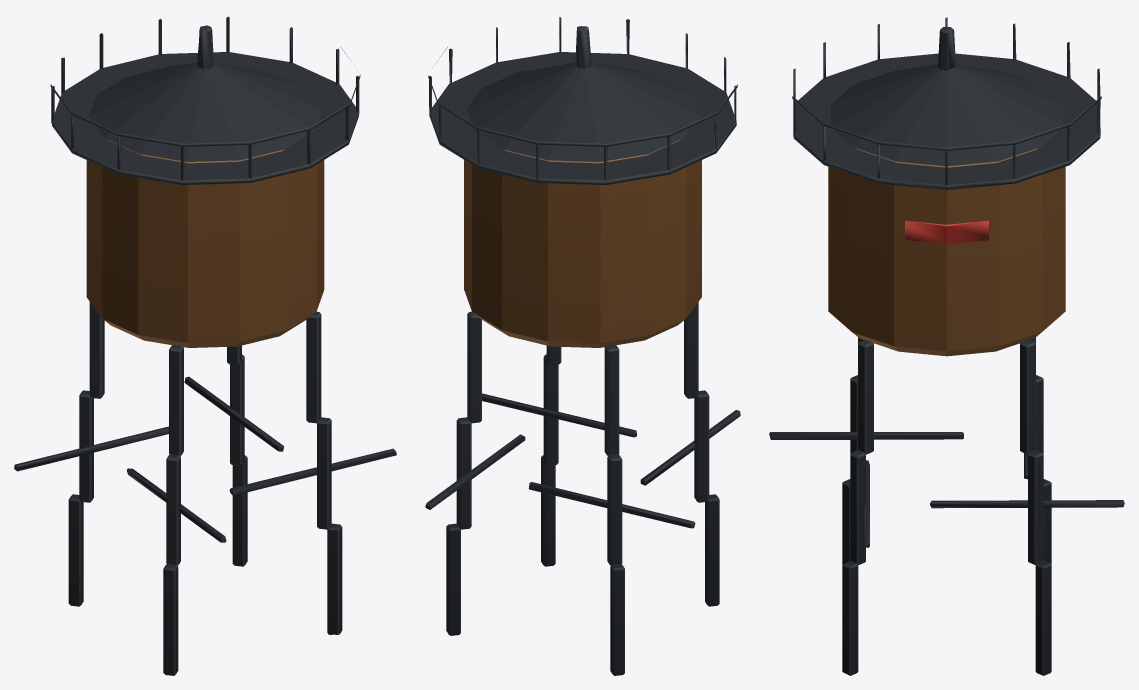
Rendered from water-tower-v1.lod1.glb.
3 renders of one model, left to right at view 1: azimuth 30°, elevation 25°; view 2: azimuth 150°, elevation 25°; view 3: azimuth 270°, elevation 25°, orthographic. The views are drawn at different scales.
Parts seen in each view (by area): view 1: water-tower-v1.lod1; view 2: water-tower-v1.lod1; view 3: water-tower-v1.lod1.
Part boxes in pixels (left/top/right/bottom): water-tower-v1.lod1: left=14, top=16, right=396, bottom=675; water-tower-v1.lod1: left=425, top=17, right=740, bottom=675; water-tower-v1.lod1: left=769, top=17, right=1124, bottom=675.
Bounding box in the file's own units: 7.01 × 13.13 × 7.01.
